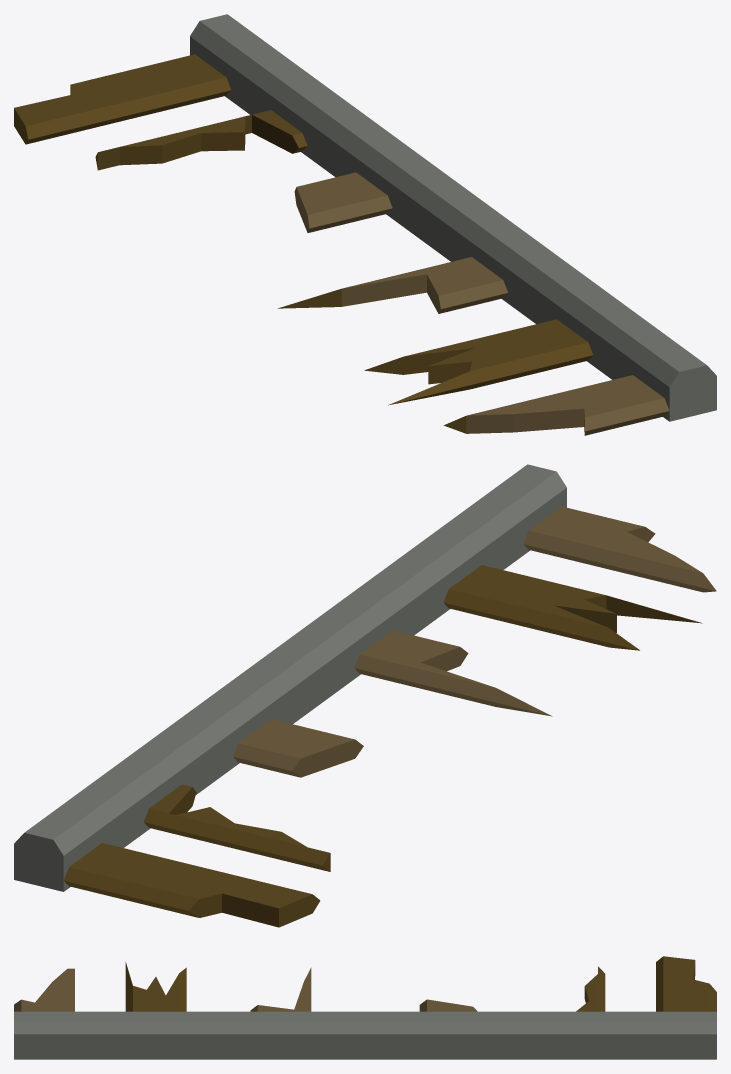
The model's file is Rails destroy 1.fbx.
3 renders of one model, top to bottom at view 1: azimuth 30°, elevation 25°; view 2: azimuth 150°, elevation 25°; view 3: azimuth 270°, elevation 25°, orthographic. The views are drawn at different scales.
Visible parts, largest first — view 1: Cube.001; view 2: Cube.001; view 3: Cube.001.
Boxes of the visible parts, x1,y1,x2,y2 form: Cube.001: [14, 14, 716, 435]; Cube.001: [14, 464, 716, 927]; Cube.001: [14, 956, 716, 1059].
Size of the model in its own units: 138 by 24.61 by 452.
